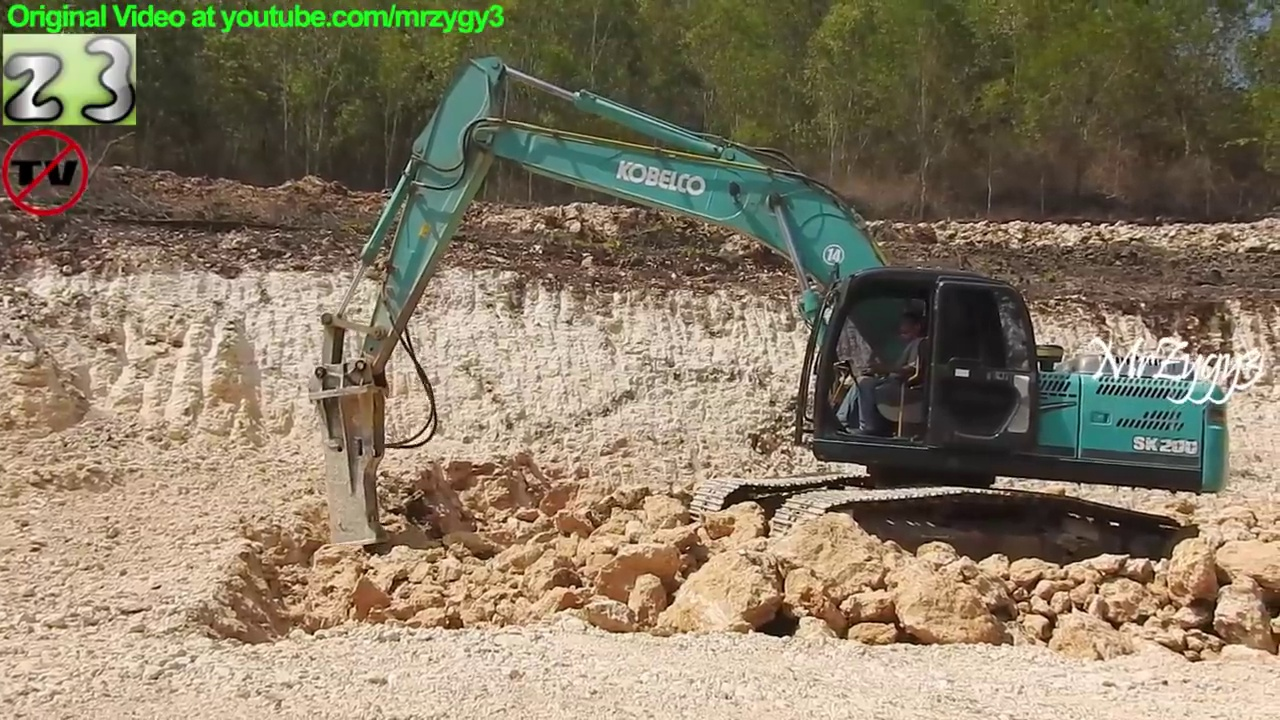excavator breaker: (298, 52, 1236, 585)
